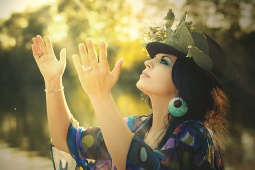female: (137, 55, 189, 110)
